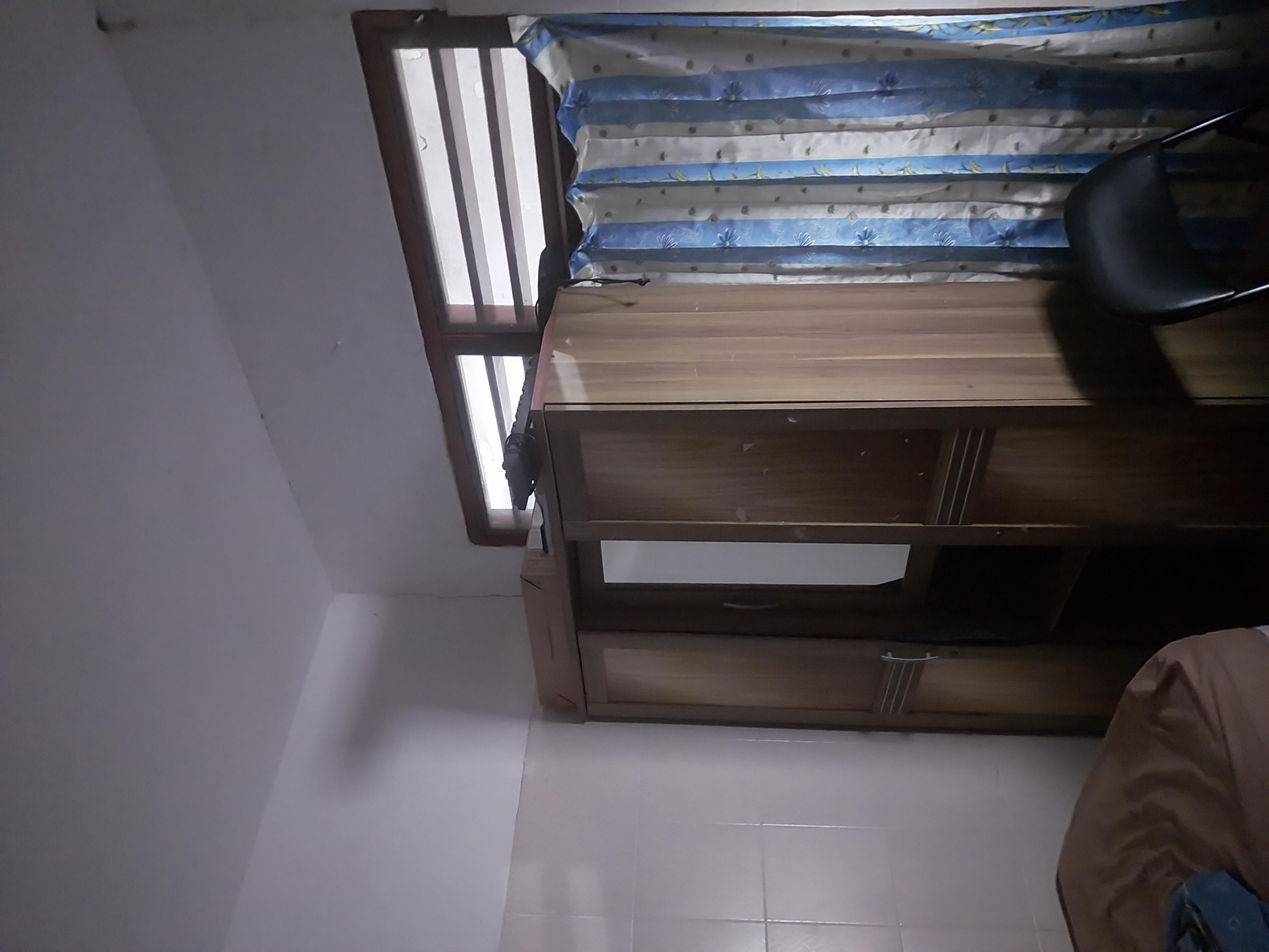bed: (0, 794, 431, 952)
cabinet-merged: (293, 400, 892, 952)
chair: (801, 785, 1135, 952)
curtain: (887, 384, 1269, 952)
